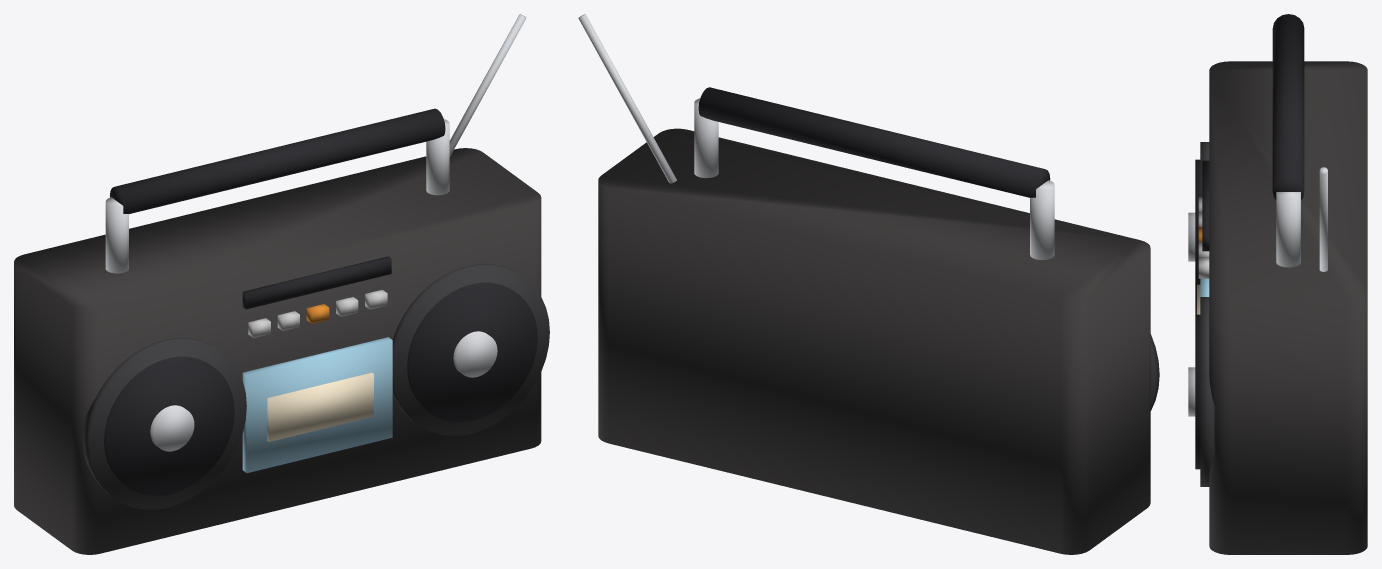
File: boombox.glb
3 renders of one model, left to right at view 1: azimuth 30°, elevation 25°; view 2: azimuth 150°, elevation 25°; view 3: azimuth 270°, elevation 25°, orthographic. The views are drawn at different scales.
Parts seen in each view (by area): view 1: part0, part2, part1, part7, part3, part8, part9, part18; view 2: part0, part2, part3, part18; view 3: part0, part2, part3, part1, part18, part9.
Part boxes in pixels (<box>): part0: <box>14,148,541,554</box>; part2: <box>104,108,537,495</box>; part1: <box>82,264,549,509</box>; part7: <box>242,337,392,472</box>; part3: <box>105,119,497,451</box>; part8: <box>267,372,373,441</box>; part9: <box>248,289,387,338</box>; part18: <box>449,14,526,156</box>; part0: <box>598,128,1150,554</box>; part2: <box>698,87,1050,197</box>; part3: <box>694,98,1054,259</box>; part18: <box>578,14,676,183</box>; part0: <box>1209,61,1367,554</box>; part2: <box>1195,14,1304,469</box>; part3: <box>1188,192,1300,416</box>; part1: <box>1200,142,1214,486</box>; part18: <box>1319,167,1327,271</box>; part9: <box>1198,197,1209,278</box>.
Bounding box in the file's own units: 1 × 0.7349 × 0.2983.
